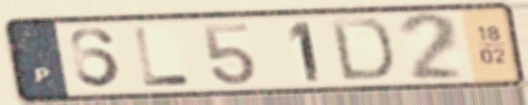1: (286, 20, 322, 83)
2: (395, 11, 472, 85)
5: (199, 21, 259, 86)
6: (67, 27, 124, 90)
D: (326, 16, 397, 83)
L: (131, 25, 195, 89)
